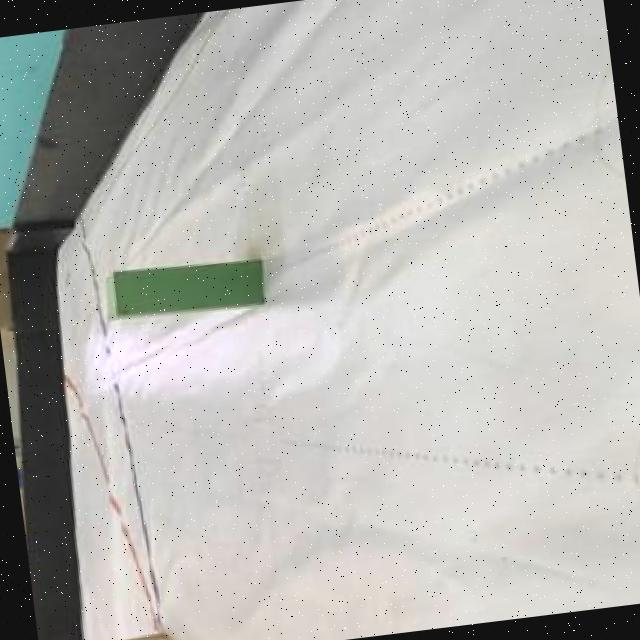greenbox: (106, 256, 262, 321)
